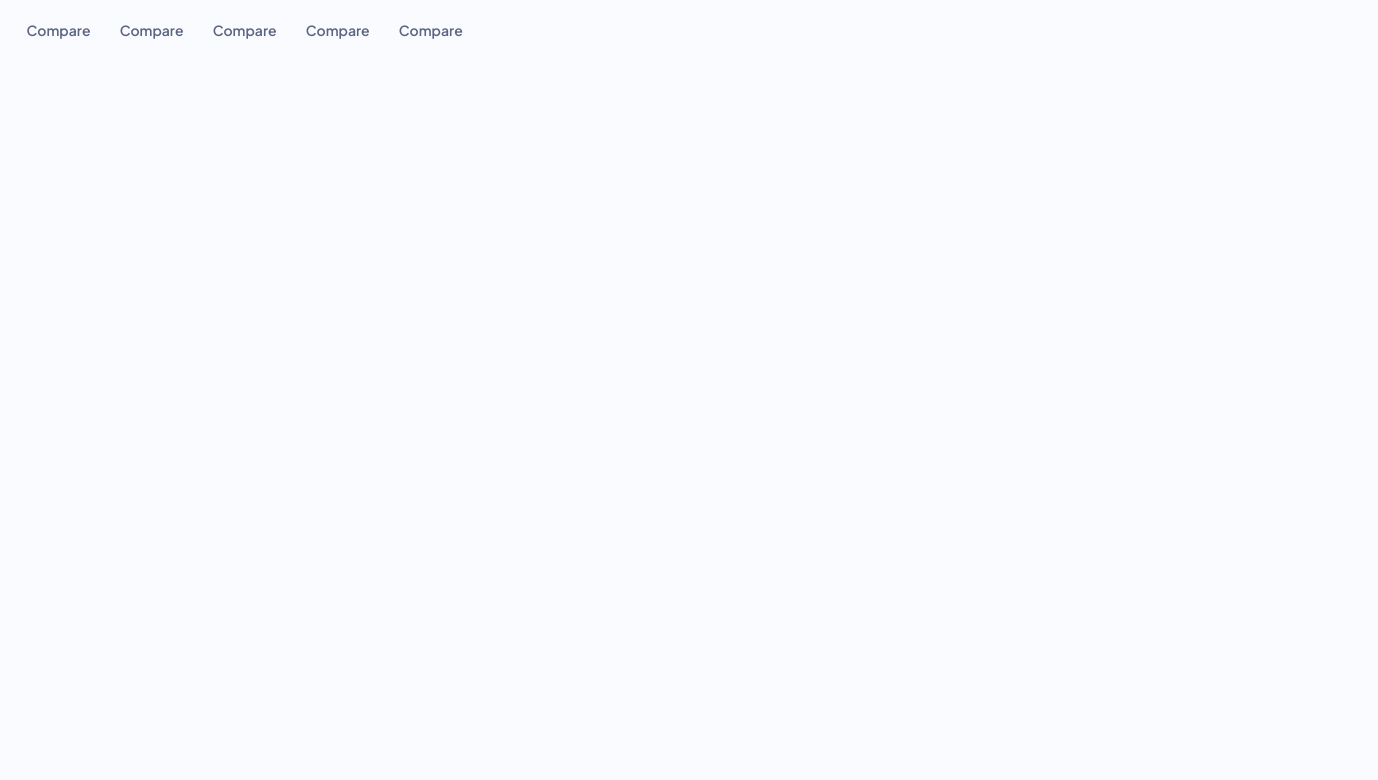
Test: compare tray limits › tray enables "Compare now" only from two courses and refuses a fifth with a message
The image size is (1378, 780).
Click the button with aria-label "Compare Course 1" at (59, 30), box top-left (12, 12), bottom-right (105, 48)
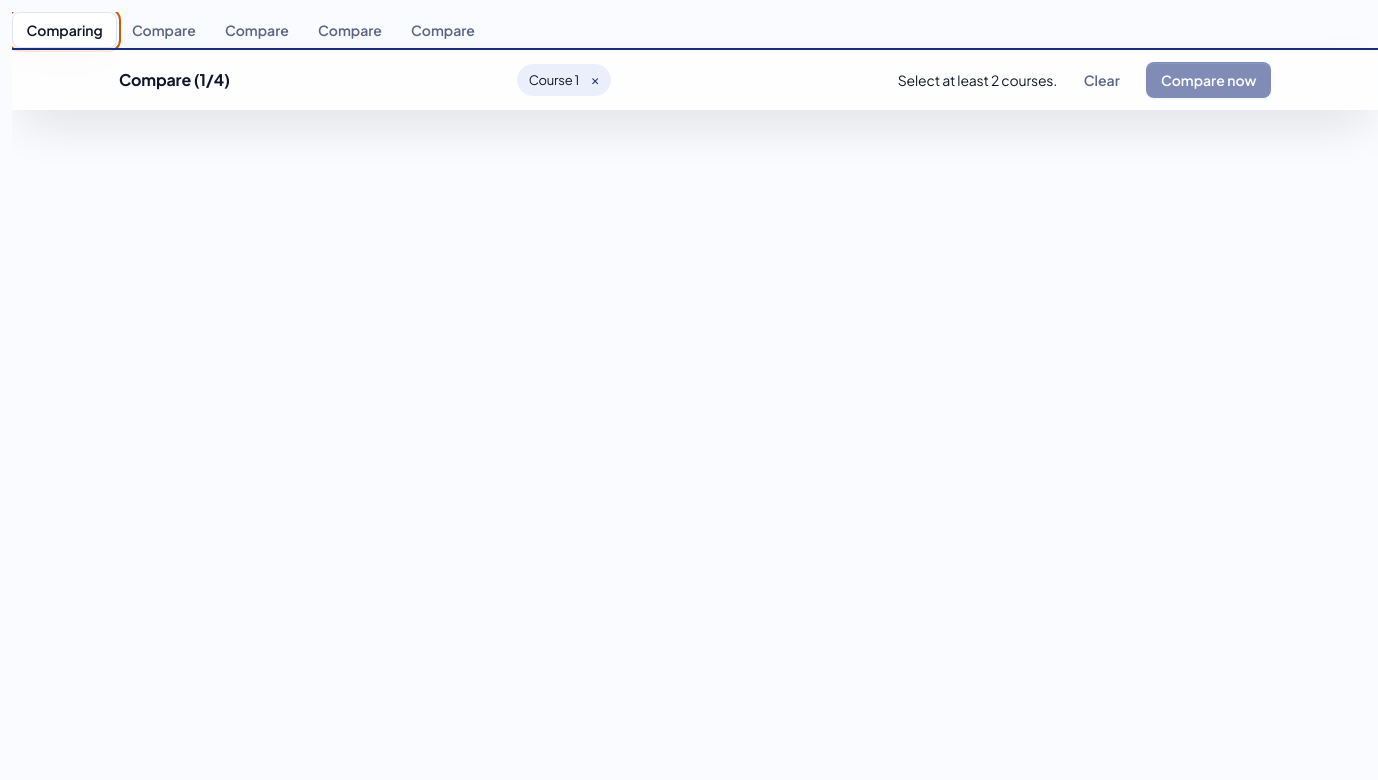
Expected: the button "Compare now" is disabled, top-left (1146, 62), bottom-right (1271, 98)
Expected: the text "Select at least 2 courses." is shown, top-left (898, 69), bottom-right (1057, 91)
Click the button with aria-label "Compare Course 2" at (164, 30), box top-left (117, 12), bottom-right (210, 48)
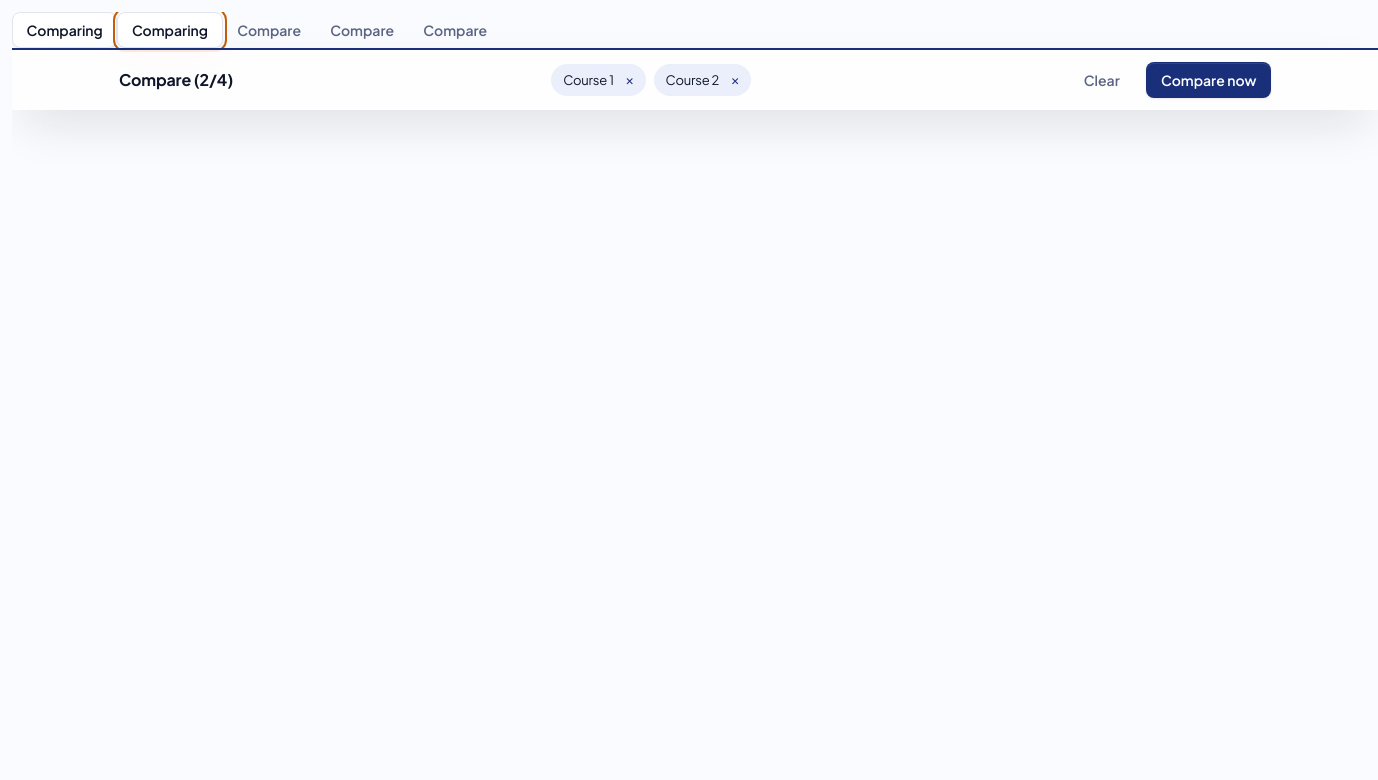
Expected: the button "Compare now" is enabled, top-left (1146, 62), bottom-right (1271, 98)
Click the button with aria-label "Compare Course 3" at (269, 30), box top-left (223, 12), bottom-right (316, 48)
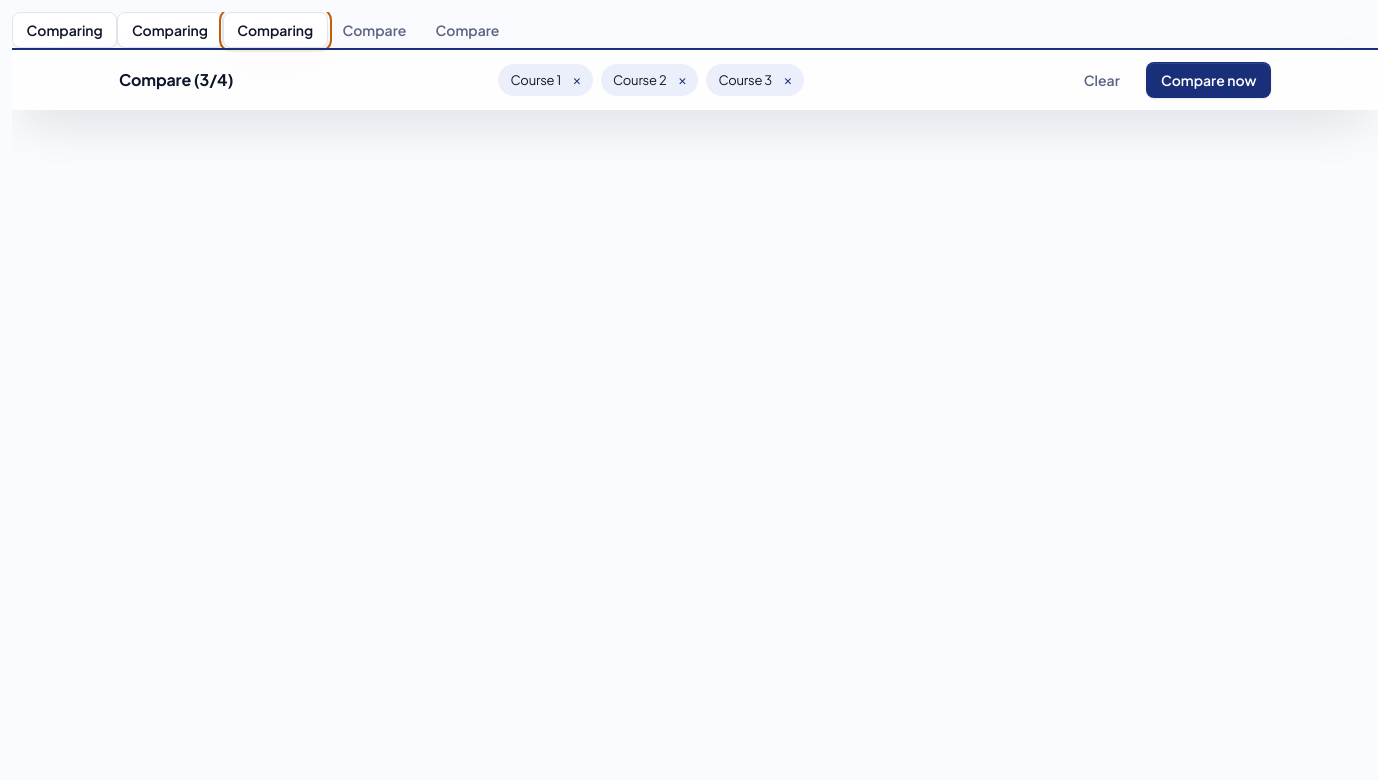
Click the button with aria-label "Compare Course 4" at (374, 30), box top-left (328, 12), bottom-right (421, 48)
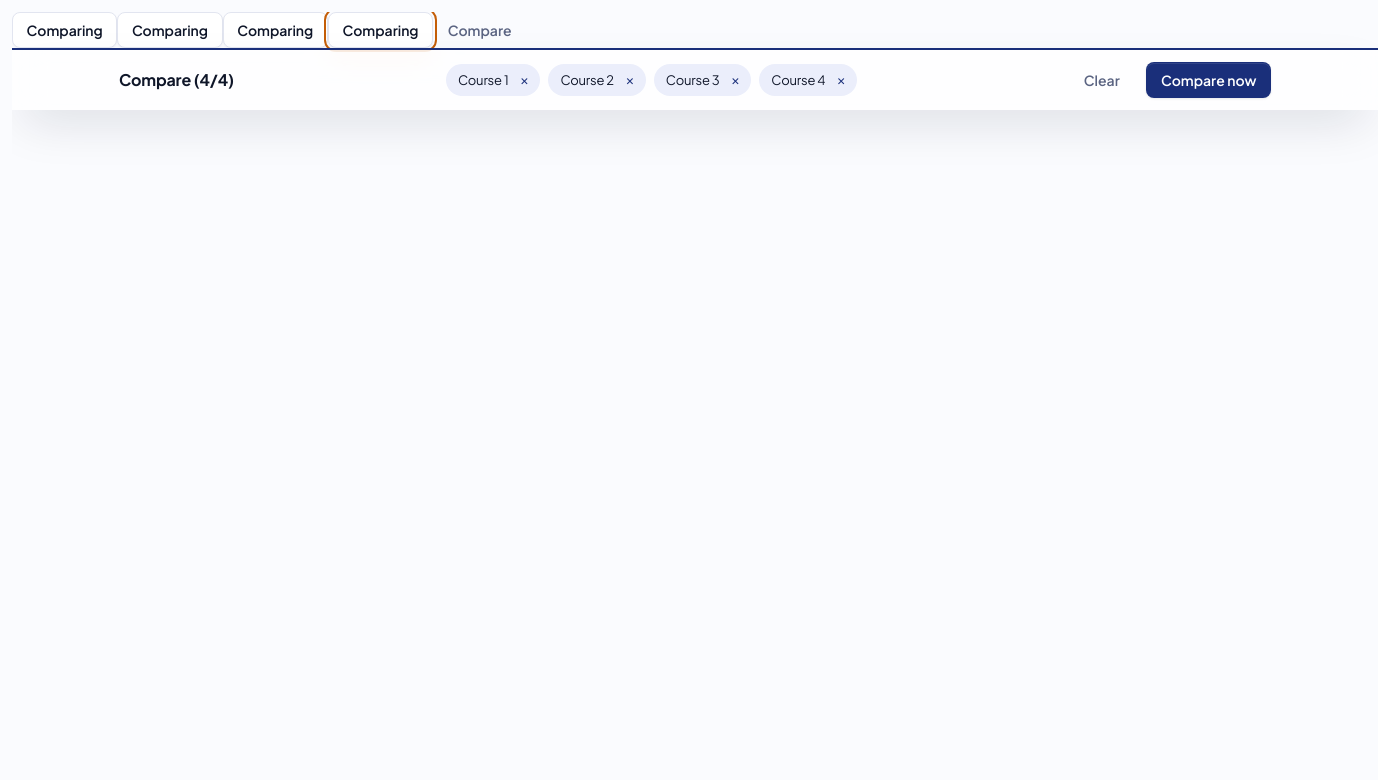
Click the button with aria-label "Compare Course 5" at (480, 30), box top-left (433, 12), bottom-right (526, 48)
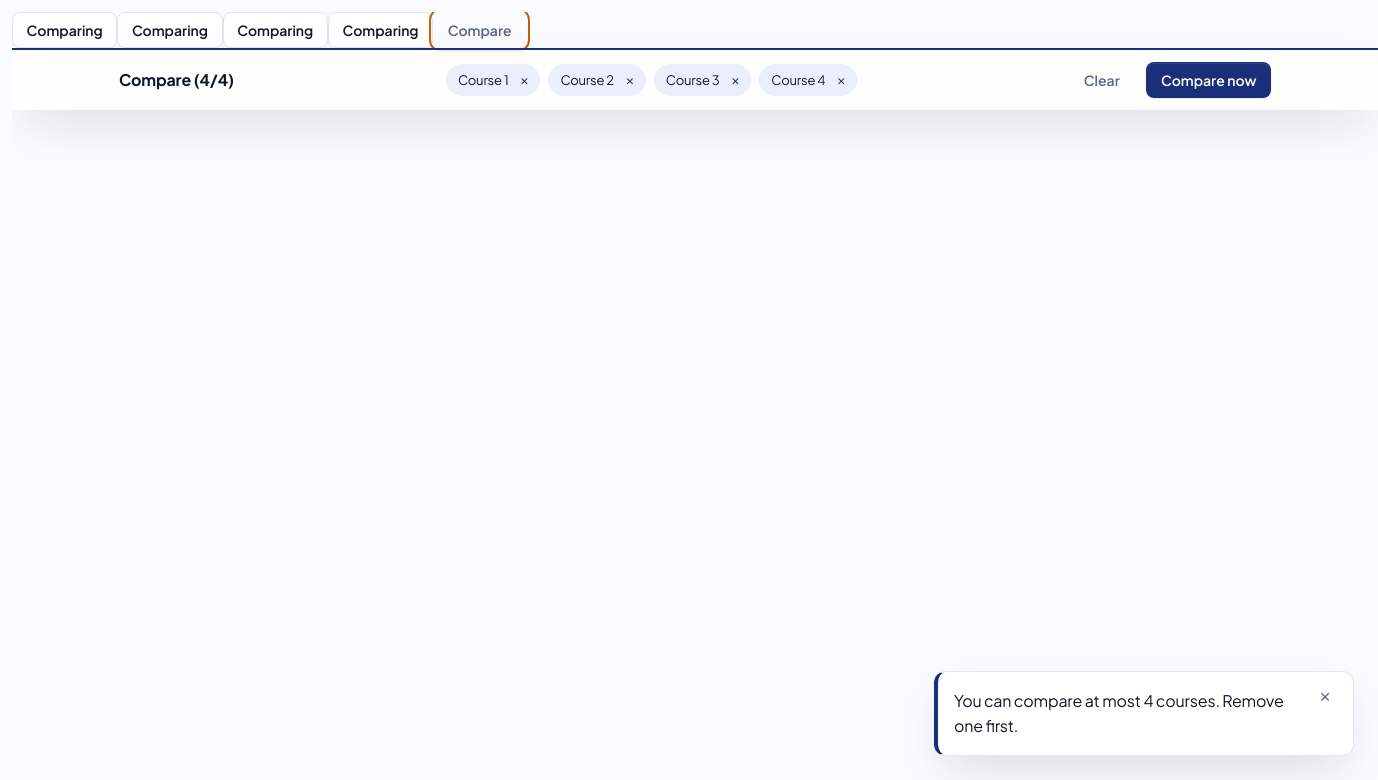
Expected: the text "Compare (4/4)" is shown, top-left (119, 67), bottom-right (234, 93)
Expected: the text "You can compare at most 4 courses. Remove one first." is shown, top-left (954, 688), bottom-right (1301, 739)
